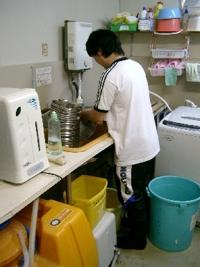person: (80, 30, 160, 252)
